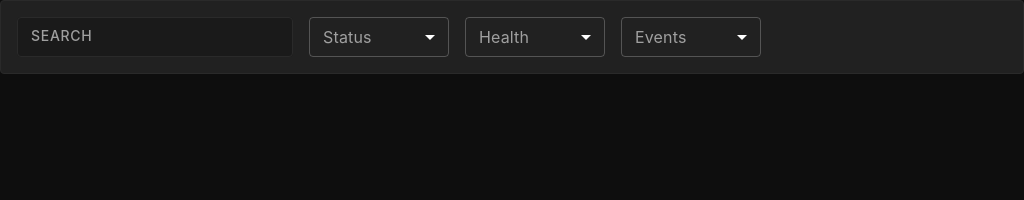
Test: RealmsFilters › should render event config filter options
What coordinates should you click on to do the following:
click the dropdown next to "Events"
I would click on:
 (691, 37)
Its box is left=621, top=17, right=761, bottom=57.
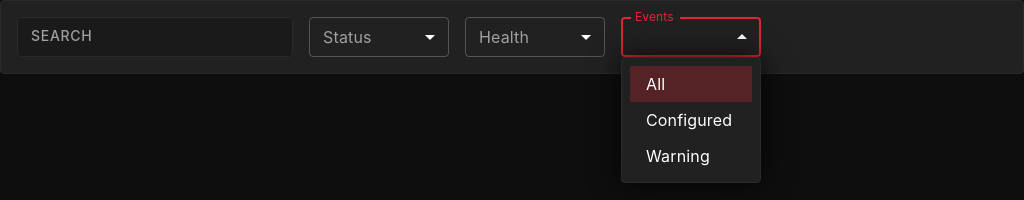
Now the option "Configured" is shown, box left=646, top=110, right=732, bottom=130
Now the option "Warning" is shown, box left=646, top=146, right=710, bottom=166
